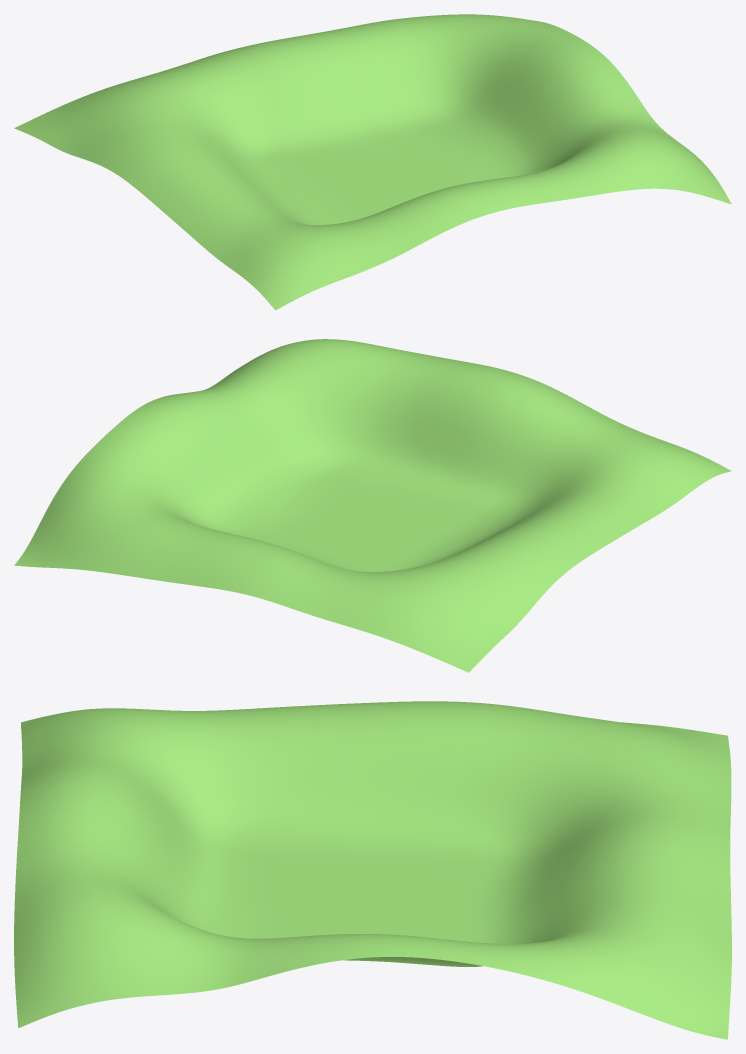
Rendered from BasicTerrain.gltf.
3 views of the same model, one above another, from view 1: azimuth 30°, elevation 25°; view 2: azimuth 150°, elevation 25°; view 3: azimuth 270°, elevation 25° (orthographic). The views are drawn at different scales.
Visible parts, largest first — view 1: Plane; view 2: Plane; view 3: Plane.
Part boxes in pixels (x1,y1,x2,y2): Plane: [14, 14, 731, 310]; Plane: [14, 339, 731, 672]; Plane: [14, 701, 731, 1039].
Size of the model in its own units: 50.94 by 7.45 by 50.83.
